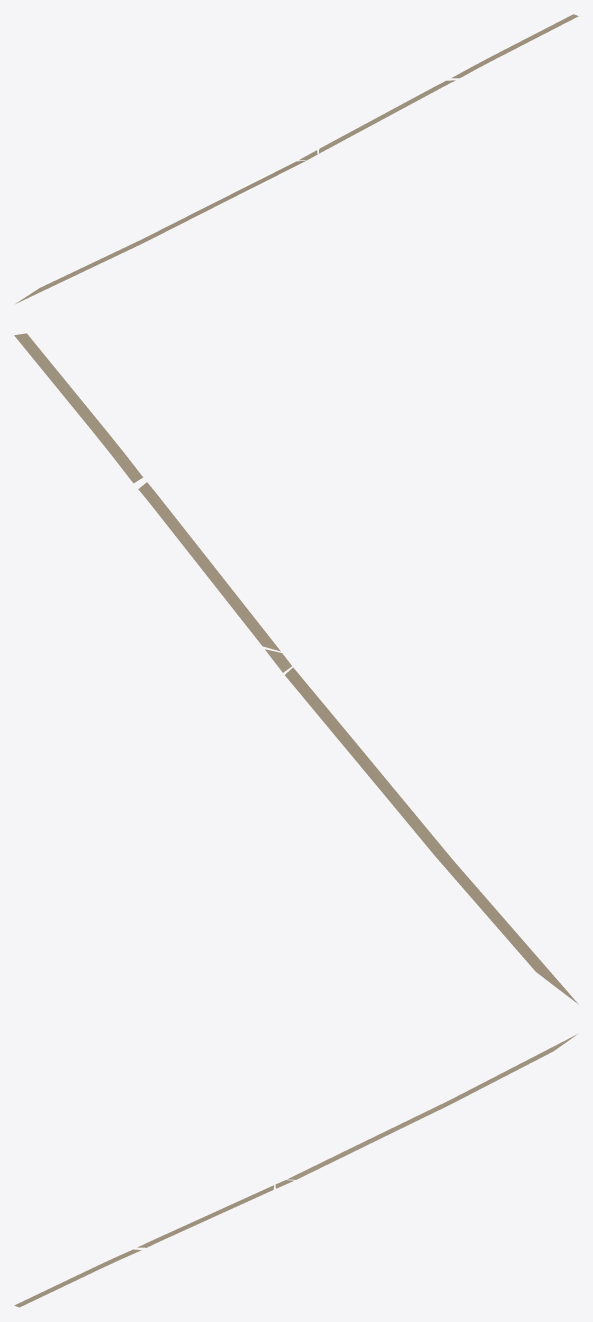
Rendered from farm_7_5_track.glb.
3 renders of one model, top to bottom at view 1: azimuth 90°, elevation 25°; view 2: azimuth 150°, elevation 25°; view 3: azimuth 270°, elevation 25°, orthographic. The views are drawn at different scales.
Parts seen in each view (by area): view 1: geometry_0; view 2: geometry_0; view 3: geometry_0.
Boxes of the visible parts, <box> form: geometry_0: <box>15,14,578,303</box>; geometry_0: <box>14,333,577,1003</box>; geometry_0: <box>14,1033,578,1307</box>.
Bounding box in the file's own units: 305 × 5.53 × 257.
